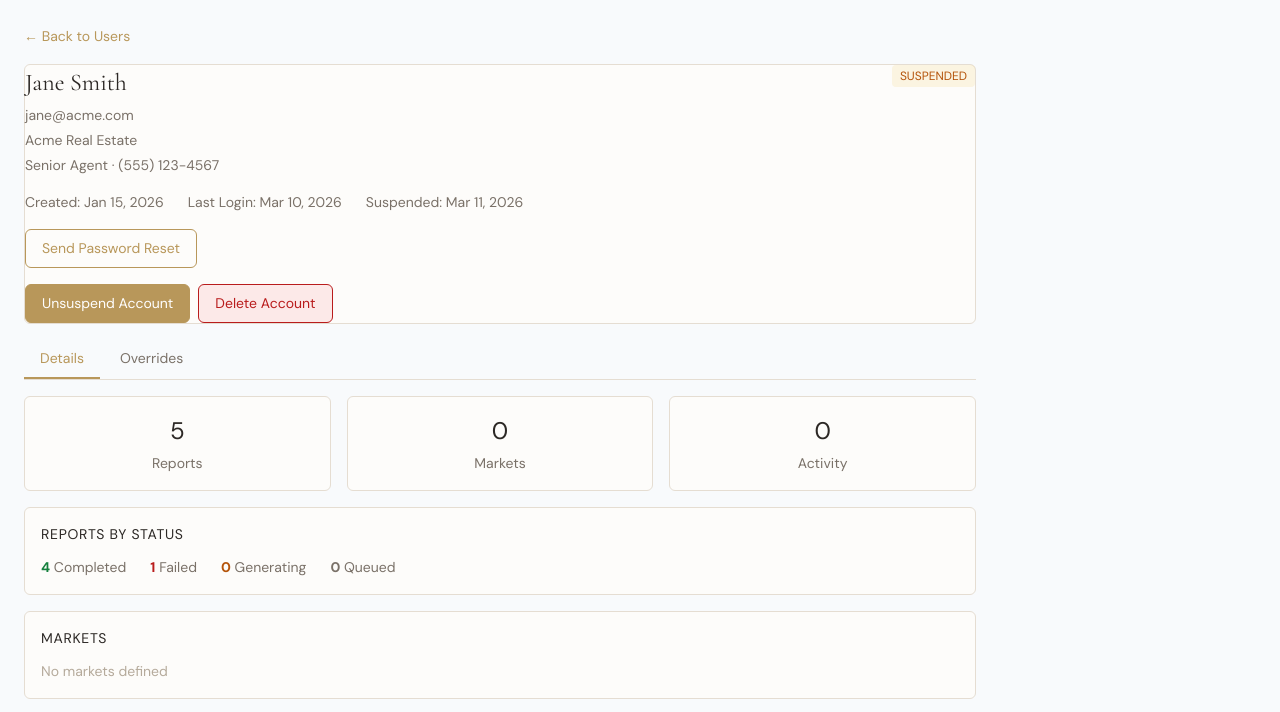
Suspend/Unsuspend Account › CMP-suspend-11: should show error message on API failure
Click the button "Unsuspend Account" at (108, 304), box 25,284 -> 190,323
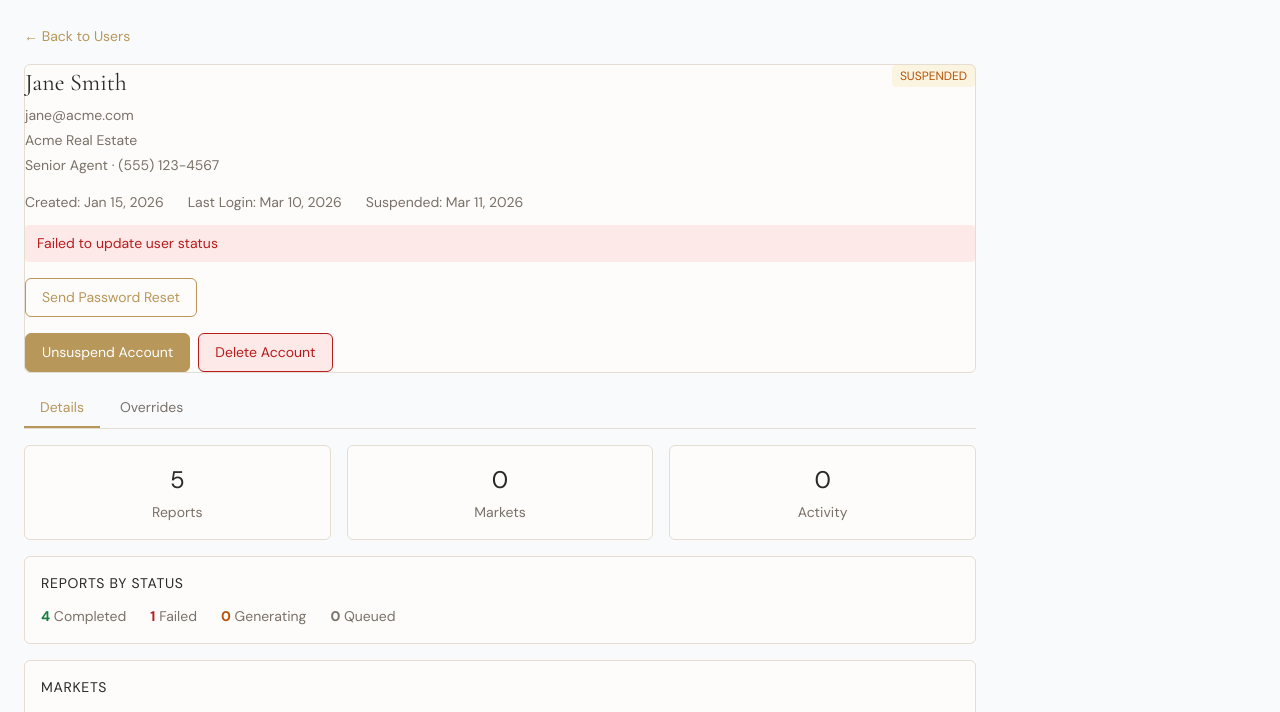
Check: the text "Failed to update user status" is shown, box 25,225 -> 975,262
